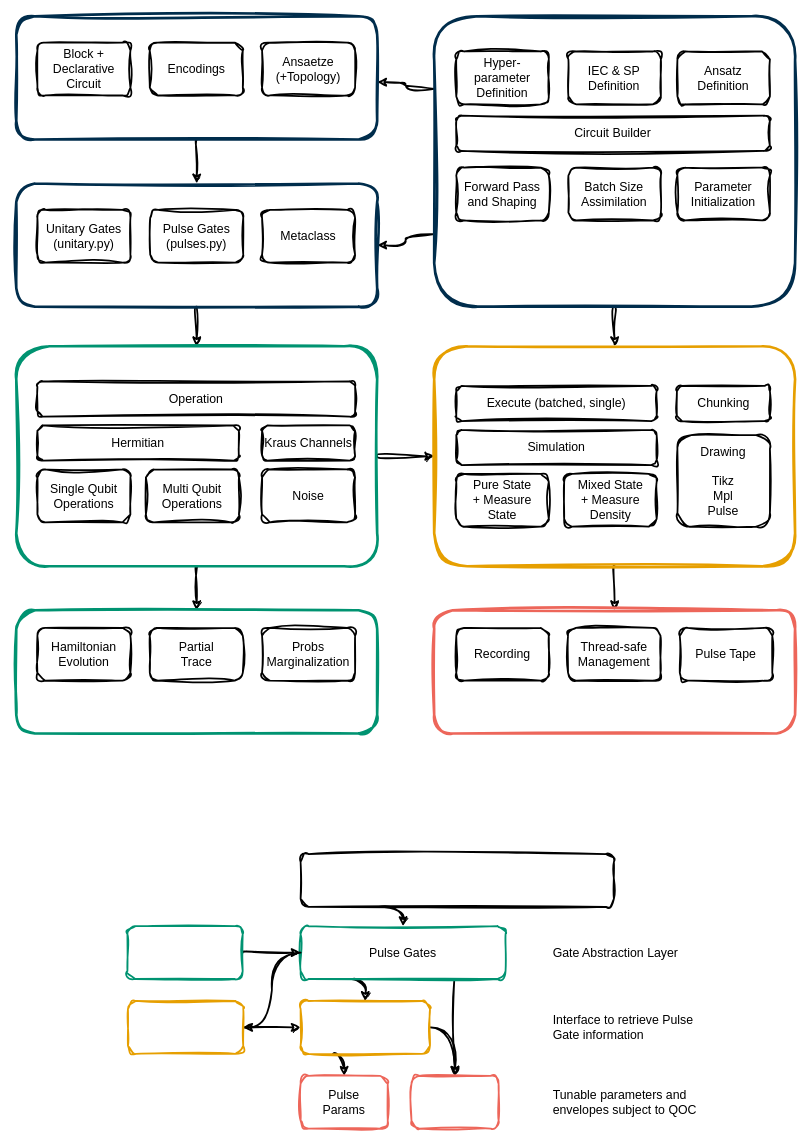
This 811x1145 diagram has some shape labels left out. The box of each missing label's shape, as (x1, y1, x2, y2) in pixels:
Ansaetze (ansaetze.py): (15, 15, 378, 140)
Gates: (299, 853, 614, 907)
Gates (gates.py): (15, 182, 378, 308)
Jaqsi (jaqsi.py): (15, 609, 378, 734)
Model (model.py): (432, 15, 796, 308)
Operations (operations.py): (15, 345, 378, 567)
Pulse Envelope: (410, 1074, 499, 1129)
Pulse Information: (299, 1000, 430, 1054)
QOC: (127, 1000, 244, 1054)
QuantumScript (jaqsi.py): (432, 345, 796, 567)
Tape (tape.py): (432, 609, 796, 734)
Tape Recording: (126, 925, 243, 979)
